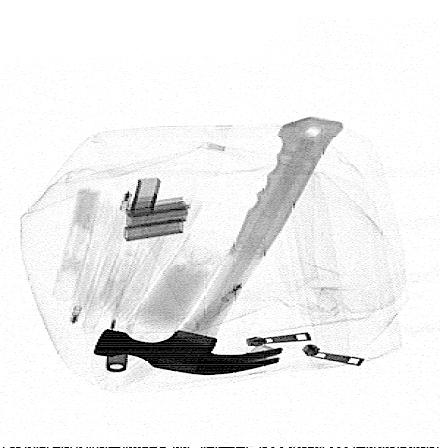Hammer: (94, 116, 346, 376)
